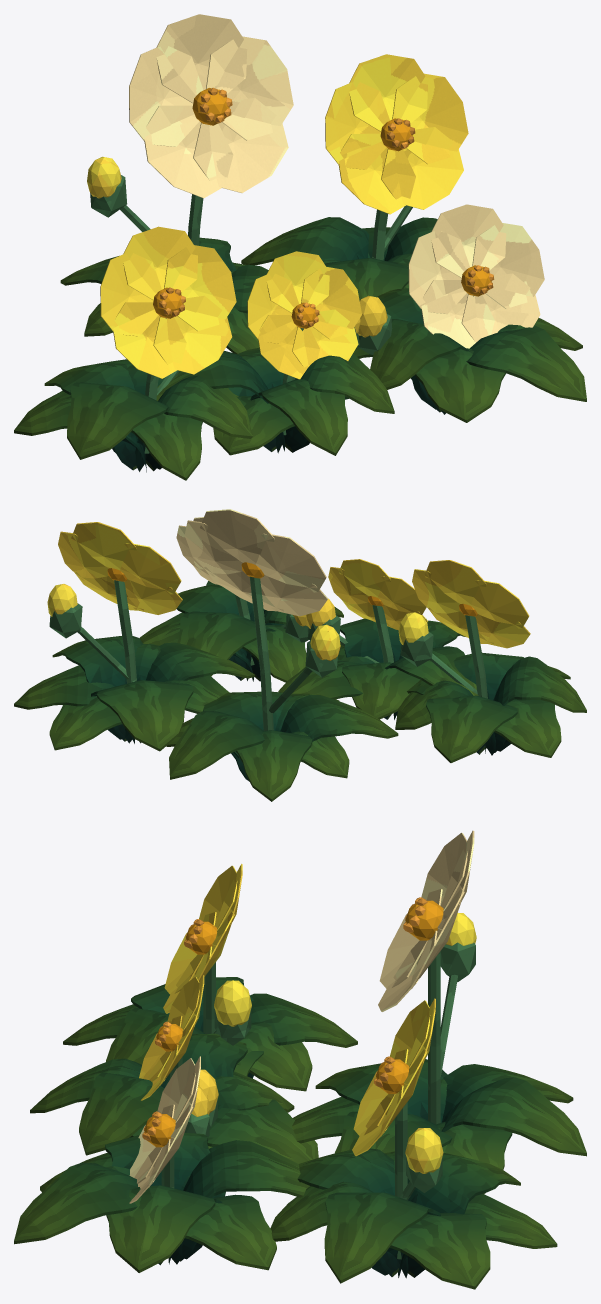
Rendered from Test_Cheon_Flowers.fbx.
3 views of the same model, one above another, from view 1: azimuth 30°, elevation 25°; view 2: azimuth 150°, elevation 25°; view 3: azimuth 270°, elevation 25° (orthographic). The views are drawn at different scales.
Parts seen in each view (by area): view 1: FlowerPlant_1_Leaf_5, FlowerPlant_0_Leaf_4, Flower_03_Petal_0, Flower_03_Petal_4, Flower_03_Petal_1, Flower_03_Petal_3, Flower_03_Petal_2, FlowerPlant_1_Leaf_4, FlowerPlant_4_Leaf_2, FlowerPlant_2_Leaf_1, FlowerPlant_0_Leaf_6, Flower_02_Petal_0 (+40 smaller); view 2: FlowerPlant_2_Leaf_1, FlowerPlant_0_Leaf_2, FlowerPlant_3_Leaf_6, FlowerPlant_3_Leaf_2, FlowerPlant_3_Leaf_0, FlowerPlant_0_Leaf_4, FlowerPlant_1_Leaf_1, FlowerPlant_4_Leaf_6, FlowerPlant_0_Leaf_3, FlowerPlant_2_Leaf_3, Flower_03_Petal_2, Flower_03_Petal_1 (+48 smaller); view 3: FlowerPlant_2_Leaf_5, FlowerPlant_1_Leaf_5, FlowerPlant_3_Leaf_6, FlowerPlant_1_Leaf_6, FlowerPlant_2_Leaf_6, FlowerPlant_1_Leaf_1, FlowerPlant_4_Leaf_3, FlowerPlant_1_Leaf_0, FlowerPlant_4_Leaf_5, FlowerPlant_2_Leaf_1, FlowerPlant_2_Leaf_3, FlowerPlant_0_Leaf_2 (+50 smaller).
Boxes of the visible parts, x1,y1,x2,y2 form: FlowerPlant_1_Leaf_5: [441, 325, 586, 414]; FlowerPlant_0_Leaf_4: [67, 382, 169, 469]; Flower_03_Petal_0: [206, 36, 293, 140]; Flower_03_Petal_4: [193, 97, 288, 192]; Flower_03_Petal_1: [156, 14, 247, 103]; Flower_03_Petal_3: [144, 105, 233, 198]; Flower_03_Petal_2: [129, 46, 203, 146]; FlowerPlant_1_Leaf_4: [410, 348, 505, 422]; FlowerPlant_4_Leaf_2: [250, 379, 347, 455]; FlowerPlant_2_Leaf_1: [241, 217, 369, 265]; FlowerPlant_0_Leaf_6: [135, 375, 253, 471]; Flower_02_Petal_0: [392, 73, 468, 164]; FlowerPlant_2_Leaf_1: [91, 680, 193, 751]; FlowerPlant_0_Leaf_2: [426, 695, 517, 762]; FlowerPlant_3_Leaf_6: [169, 711, 264, 779]; FlowerPlant_3_Leaf_2: [280, 695, 398, 741]; FlowerPlant_3_Leaf_0: [235, 730, 312, 801]; FlowerPlant_0_Leaf_4: [485, 656, 586, 753]; FlowerPlant_1_Leaf_1: [177, 611, 275, 676]; FlowerPlant_4_Leaf_6: [342, 662, 420, 719]; FlowerPlant_0_Leaf_3: [485, 699, 561, 757]; FlowerPlant_2_Leaf_3: [139, 642, 254, 743]; Flower_03_Petal_2: [255, 533, 326, 592]; Flower_03_Petal_1: [200, 509, 274, 564]; FlowerPlant_2_Leaf_5: [324, 1192, 440, 1283]; FlowerPlant_1_Leaf_5: [14, 1162, 182, 1264]; FlowerPlant_3_Leaf_6: [441, 1077, 586, 1156]; FlowerPlant_1_Leaf_6: [106, 1185, 222, 1272]; FlowerPlant_2_Leaf_6: [371, 1212, 490, 1289]; FlowerPlant_1_Leaf_1: [168, 1140, 309, 1264]; FlowerPlant_4_Leaf_3: [79, 1072, 164, 1155]; FlowerPlant_1_Leaf_0: [185, 1194, 276, 1270]; FlowerPlant_4_Leaf_5: [207, 1099, 318, 1163]; FlowerPlant_2_Leaf_1: [407, 1153, 520, 1277]; FlowerPlant_2_Leaf_3: [297, 1148, 399, 1276]; FlowerPlant_0_Leaf_2: [250, 993, 357, 1047].
Bounding box in the file's own units: 1.62 × 0.9348 × 1.38.
6 materials, 5 textured.
